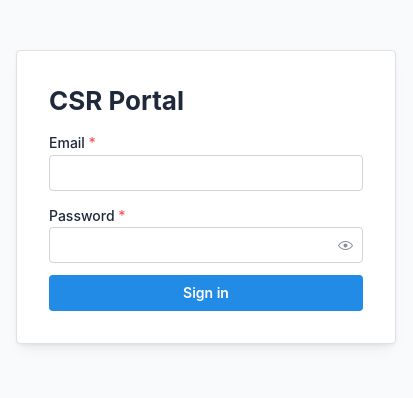
LoginPage › gives a generic message for any other failure
The width and height of the screenshot is (413, 398).
Type "csr@example.com" into the field labelled "Email *".
click(206, 172); type("csr@example.com")  # box [49,154,363,190]
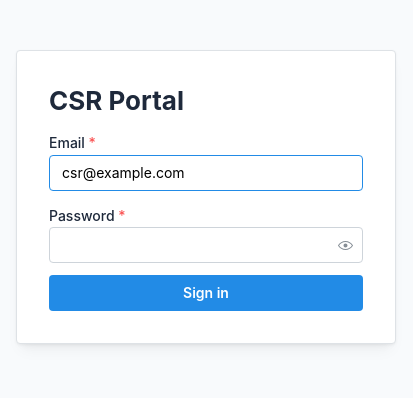
Type "hunter2" into the password field labelled "Password *".
click(206, 245); type("hunter2")  # box [50,228,362,262]
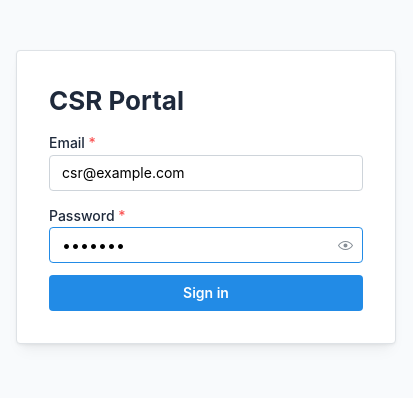
Click the button "Sign in".
click(206, 293)  # box [49,275,363,311]
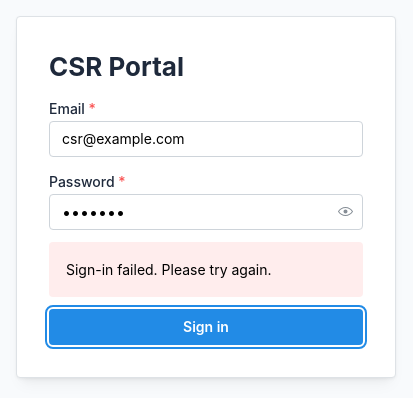
Check: the message reads "Sign-in failed. Please try again.", box [66,260,272,278]
